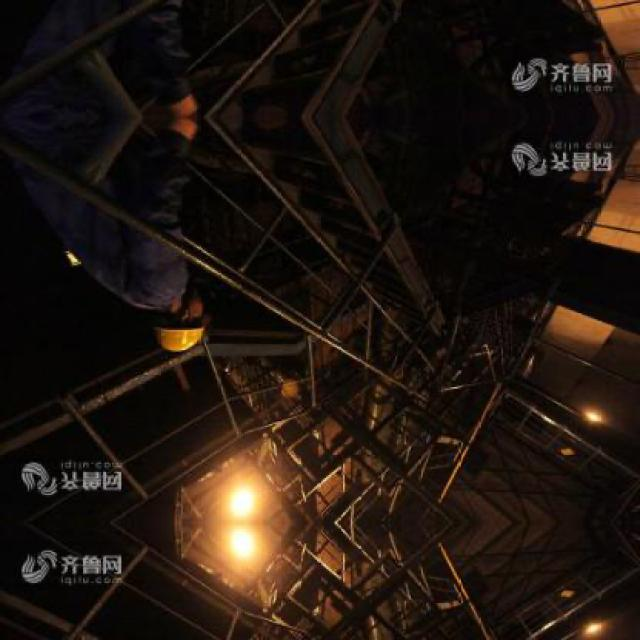con casco: (141, 284, 203, 362)
